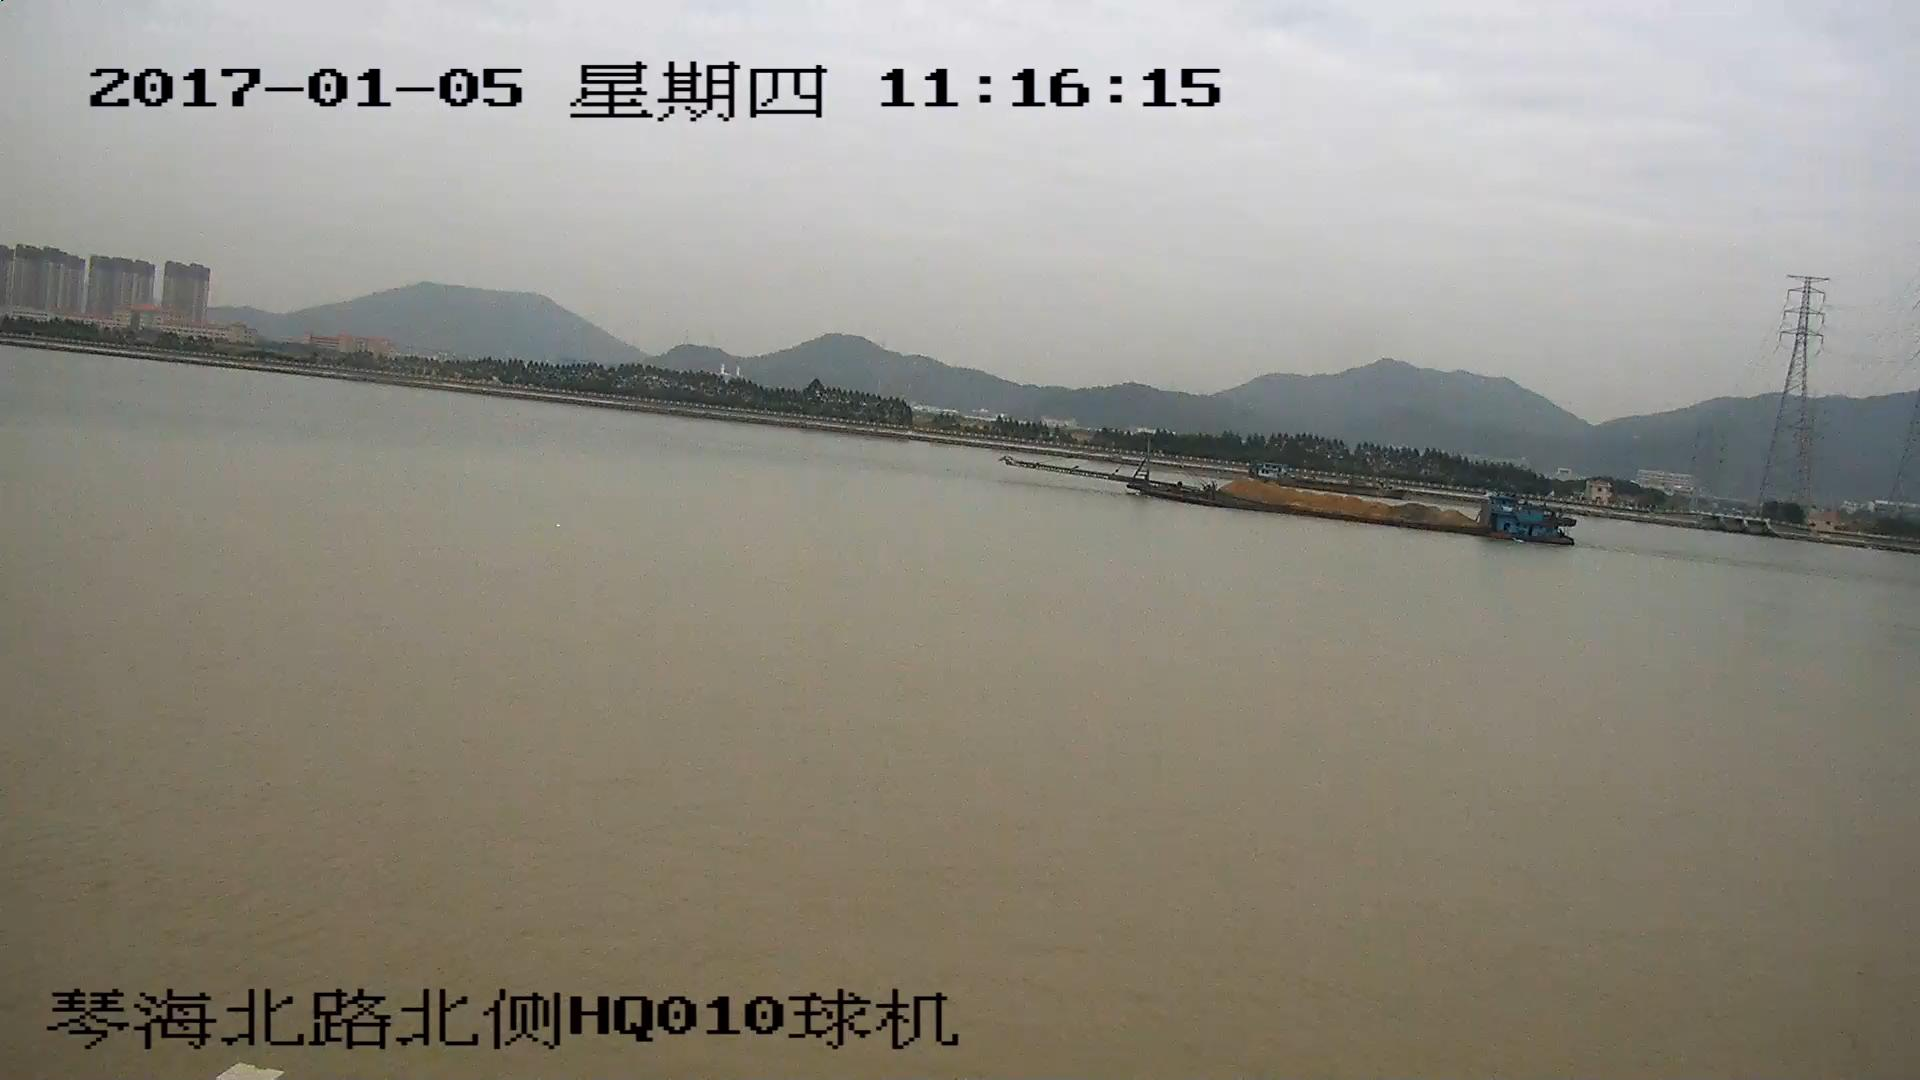ore carrier: (1009, 443, 1572, 536)
